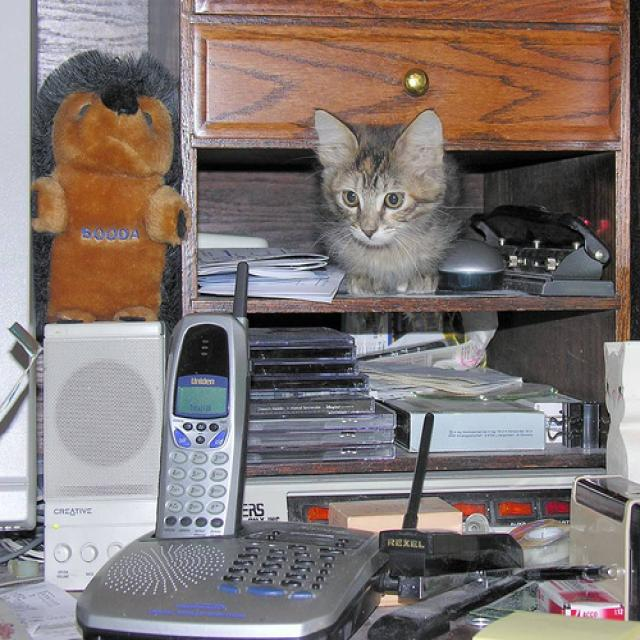left eye: (382, 189, 404, 210)
